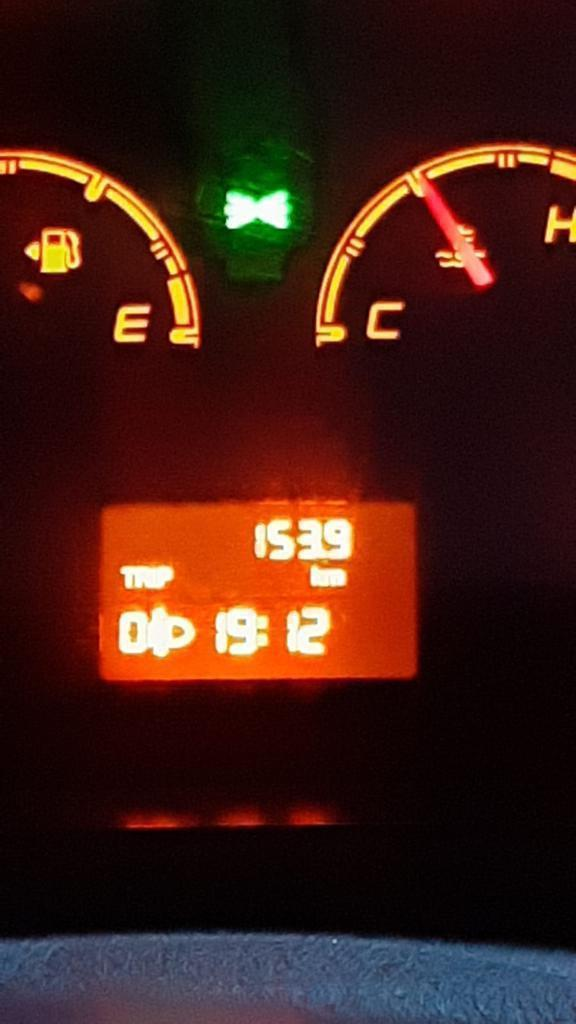,: (321, 547, 327, 562)
0: (118, 606, 148, 657)
1: (213, 607, 228, 657), (285, 607, 299, 654), (251, 520, 267, 561)
2: (300, 604, 329, 656)
3: (297, 516, 322, 561)
5: (267, 516, 295, 561)
9: (229, 602, 257, 657), (325, 515, 353, 560)
X: (324, 568, 347, 589), (158, 563, 174, 589), (134, 563, 150, 589), (119, 562, 134, 589), (257, 612, 268, 648), (309, 564, 323, 590), (150, 564, 157, 590)
odometer: (90, 490, 428, 691)
